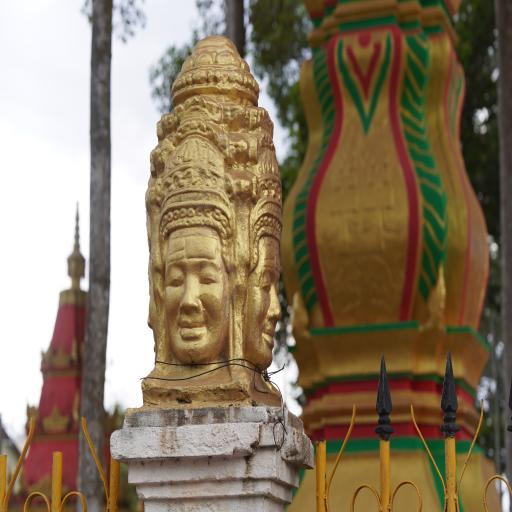than: (124, 30, 299, 423)
